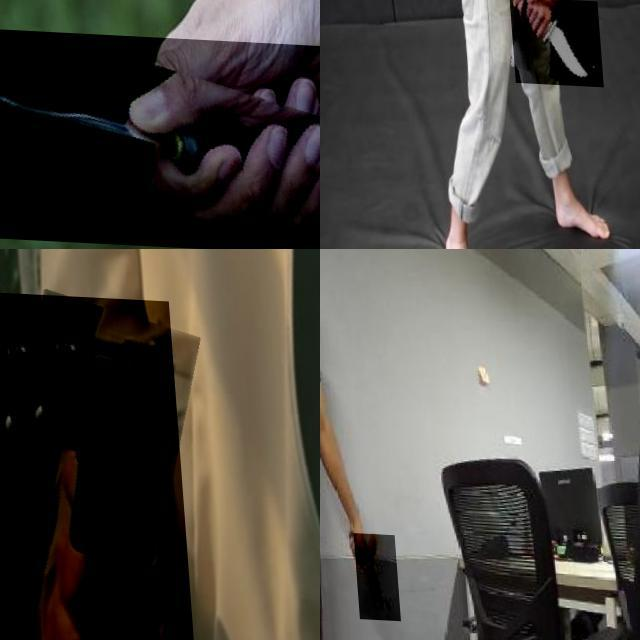-: (0, 24, 320, 249), (504, 0, 597, 83), (347, 530, 393, 618)
gun-knife-thesis - v11 Yolov5 augmented: (0, 289, 194, 640)
